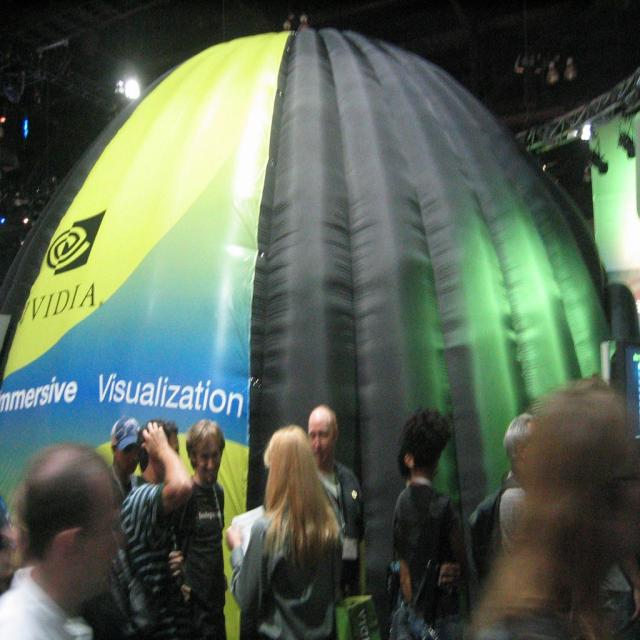nvidia: (47, 212, 106, 276)
